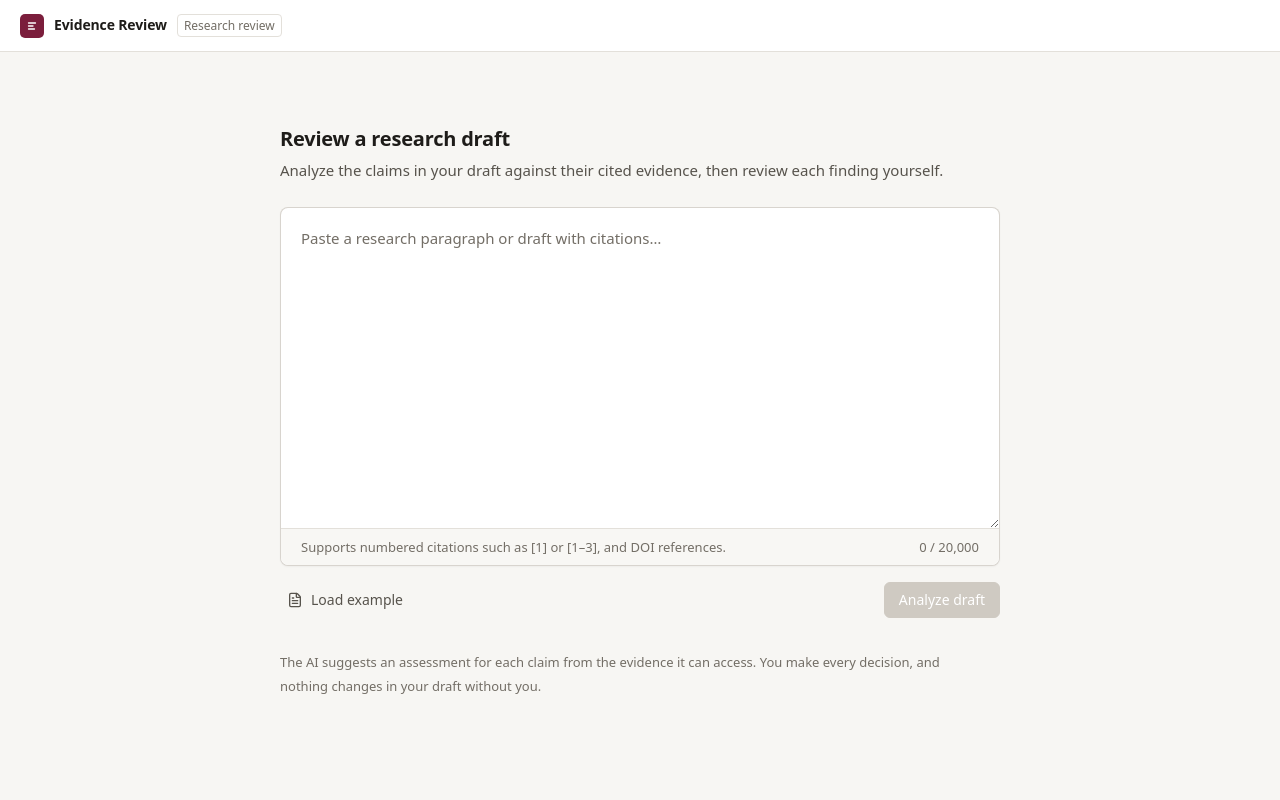
Test: Draft input › explains an unreachable API without leaking internals
Click the text box named "Research draft" at {"x": 640, "y": 368}, box [281, 208, 999, 528]
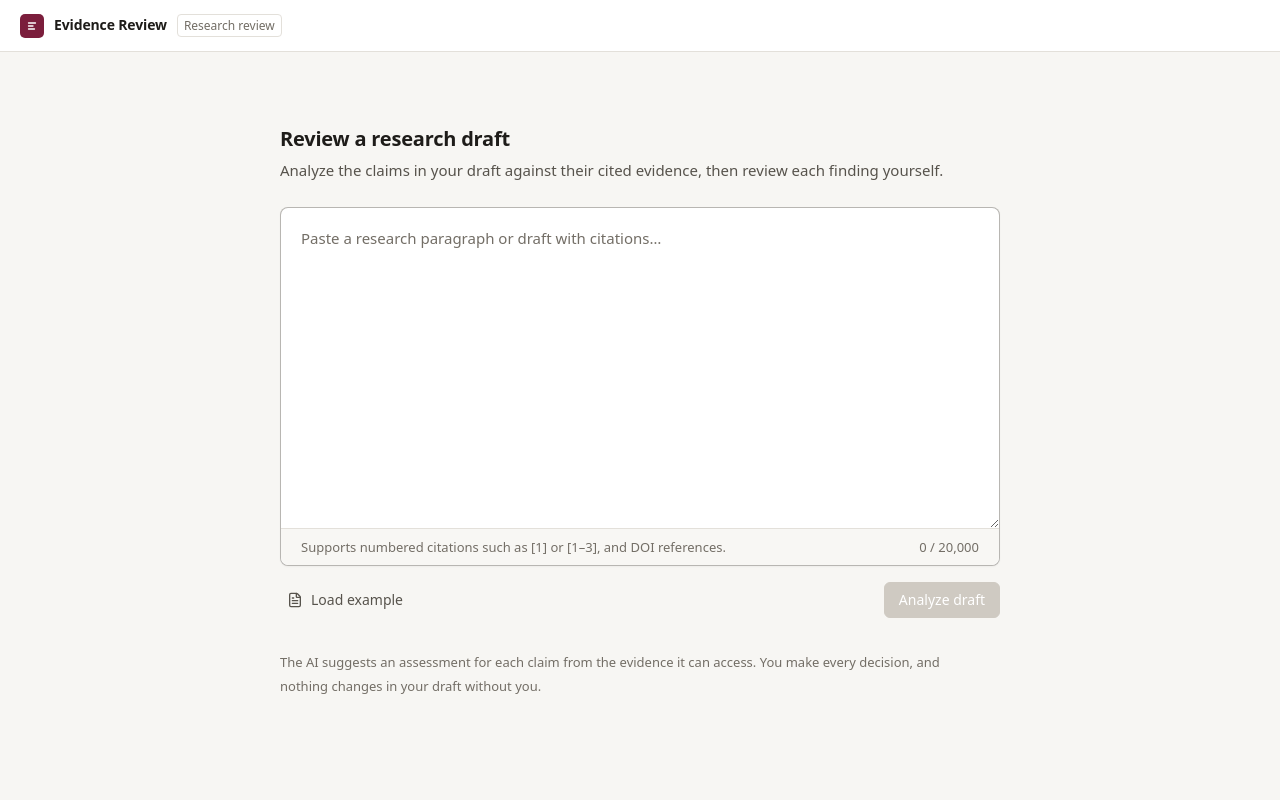
Type keys "Some claim with evidence [1]."
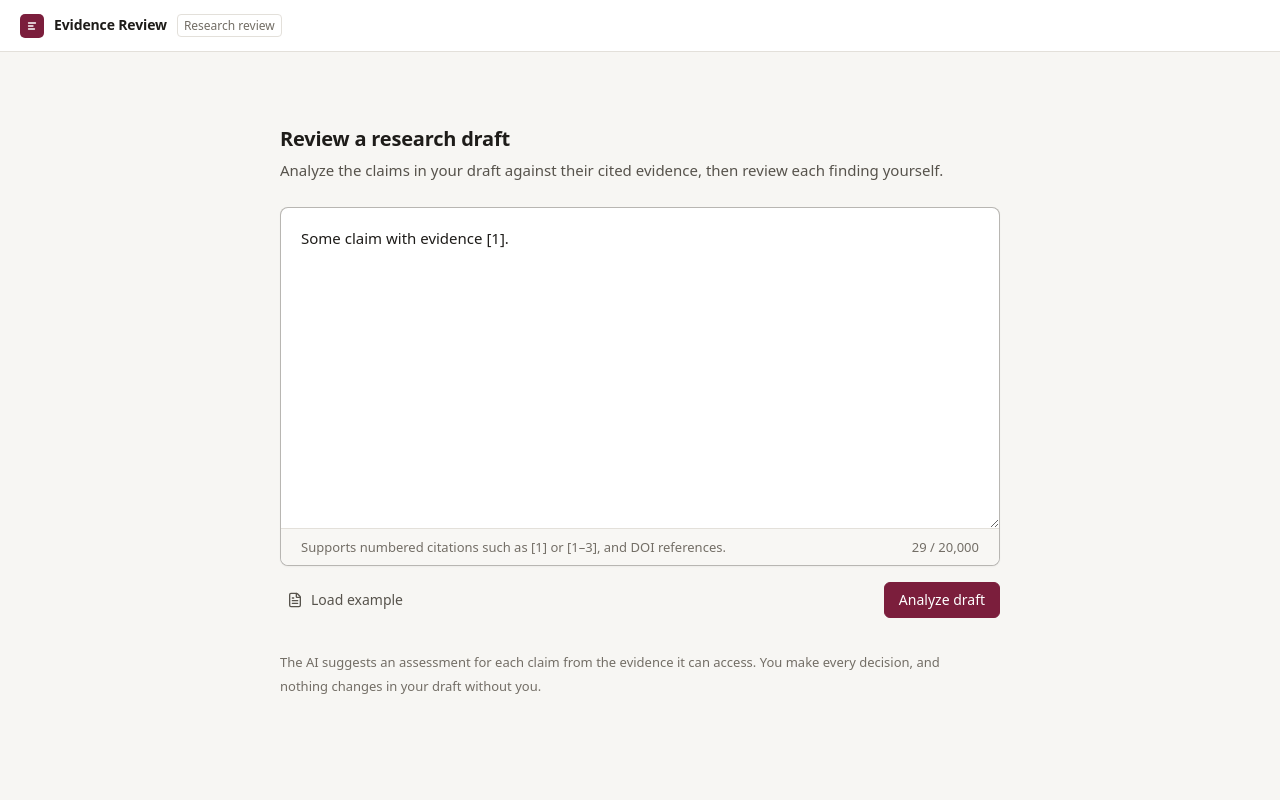
Click the button "Analyze draft" at {"x": 942, "y": 600}, box [884, 582, 1000, 618]
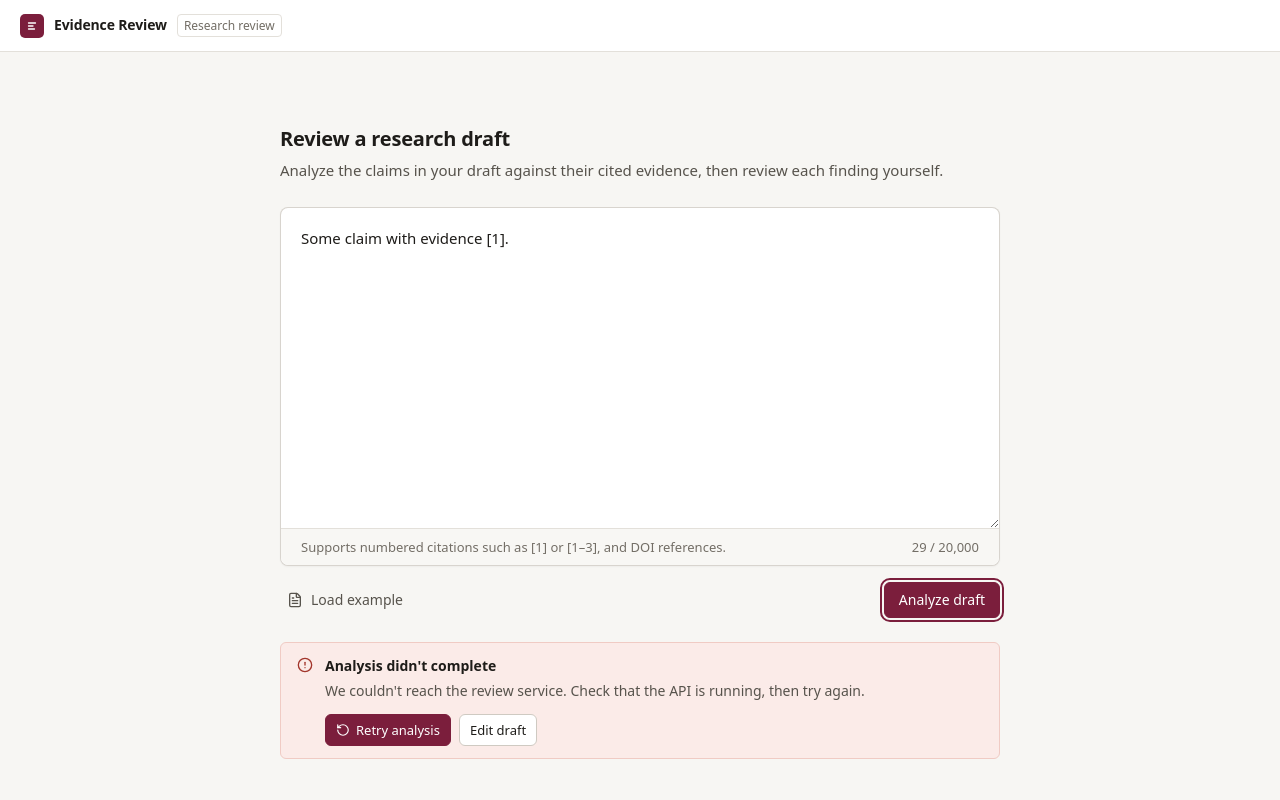
Now the text "couldn't reach the review service" is shown, box [325, 681, 865, 700]
